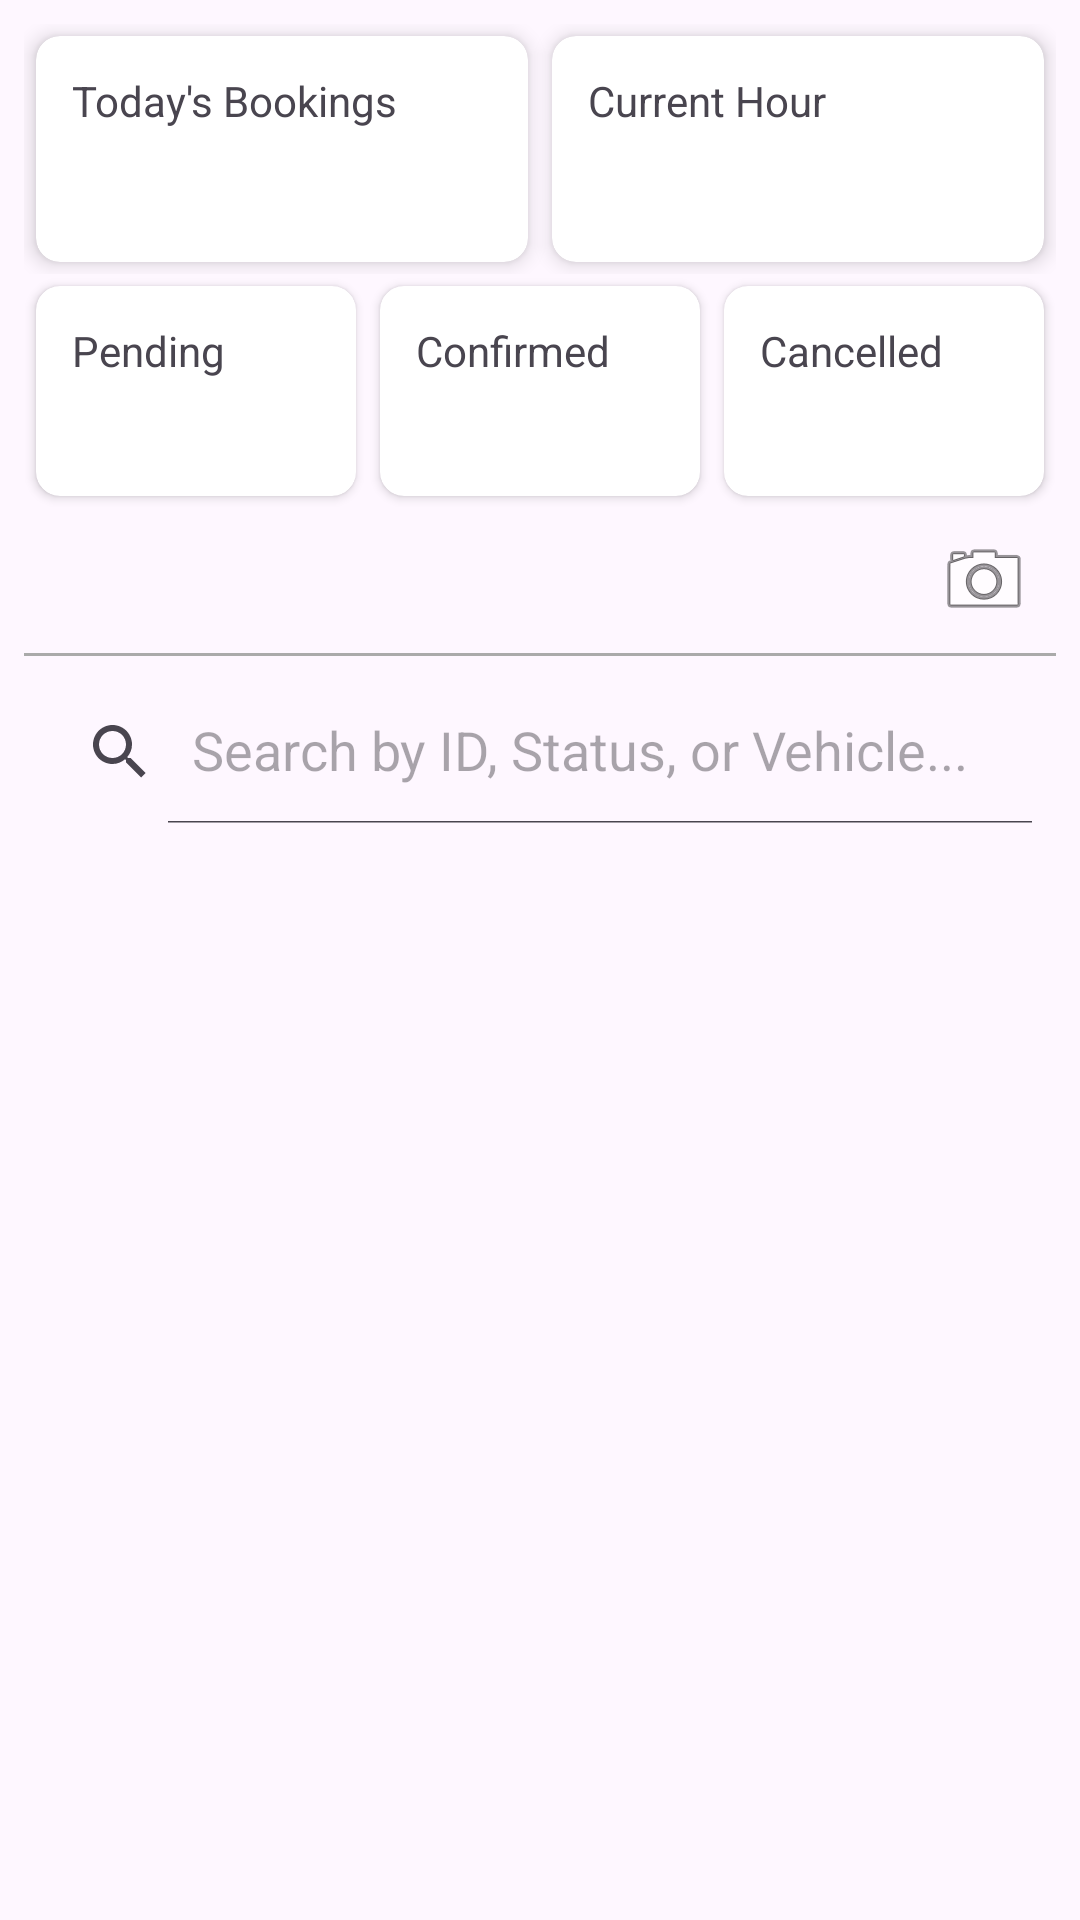

Where icons sit on this 1080x1920 app screen, as (x1=x1, y1=y1, x2=x2, y2=y2):
Scan QR Code: (x1=947, y1=549, x2=1021, y2=608)
